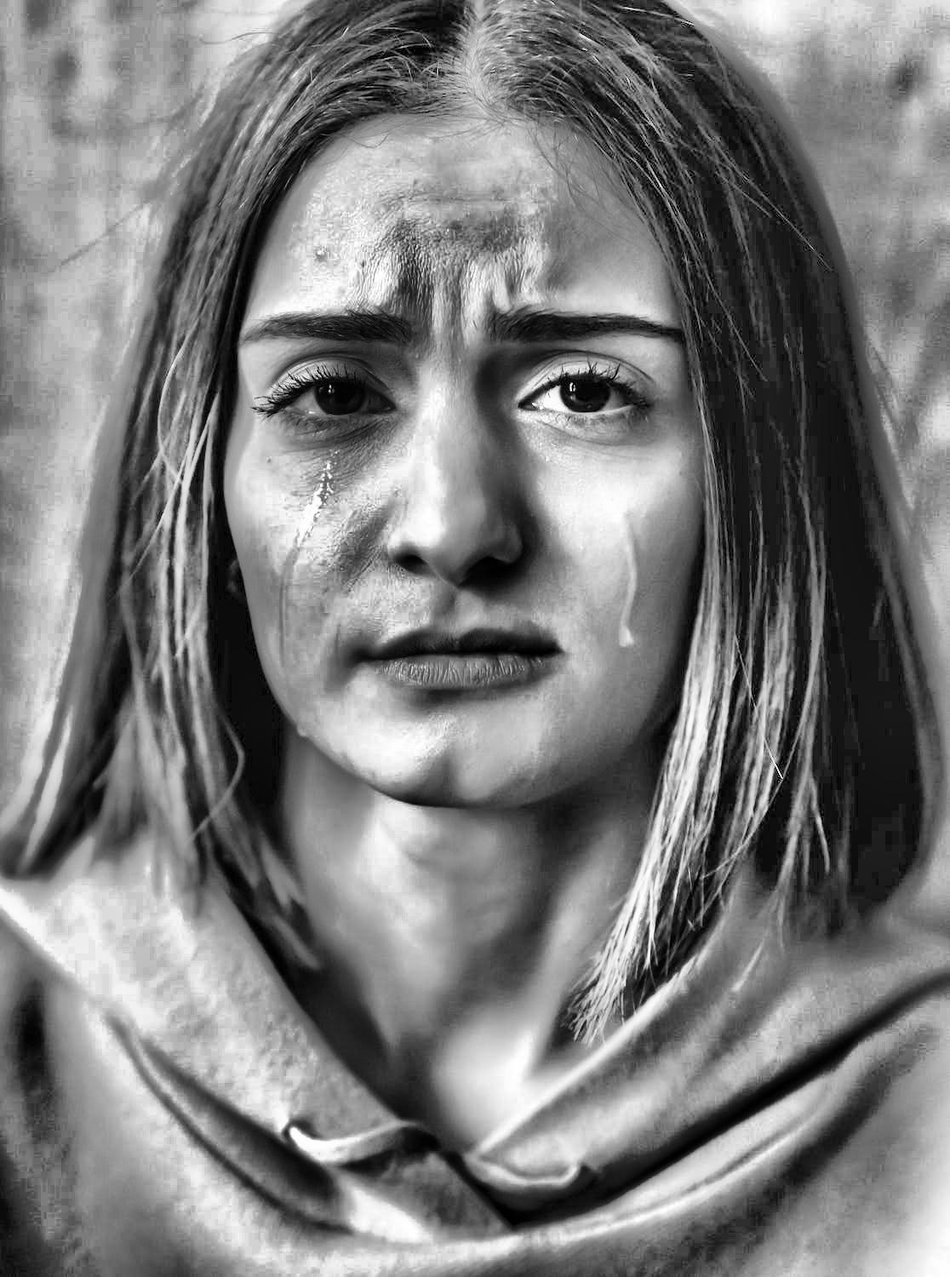sad: (223, 140, 721, 808)
